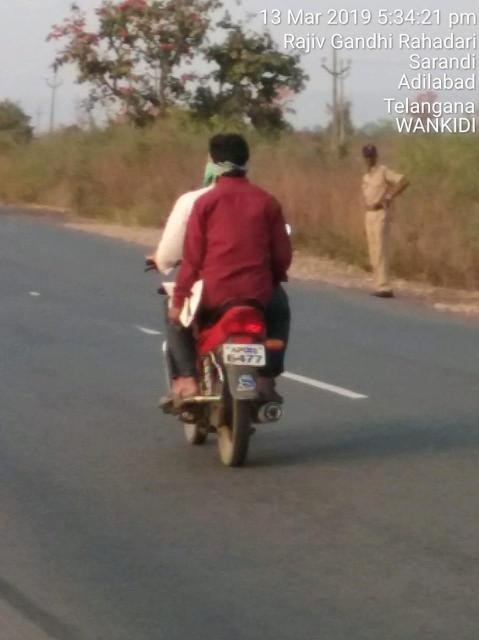motor: (197, 299, 285, 471)
non-helm: (212, 136, 251, 179)
